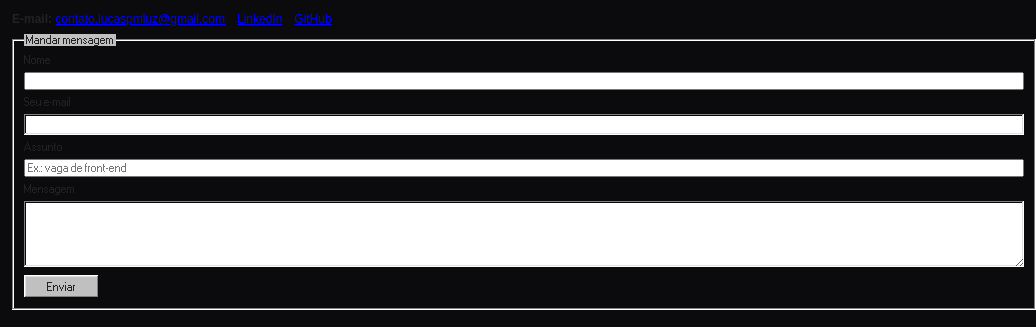
Test: Contact › with a Web3Forms key › shows the service error with the e-mail fallback
Step 1. Type "Ana" into the field labelled "Nome" → (524, 81), box [24,72,1024,90]
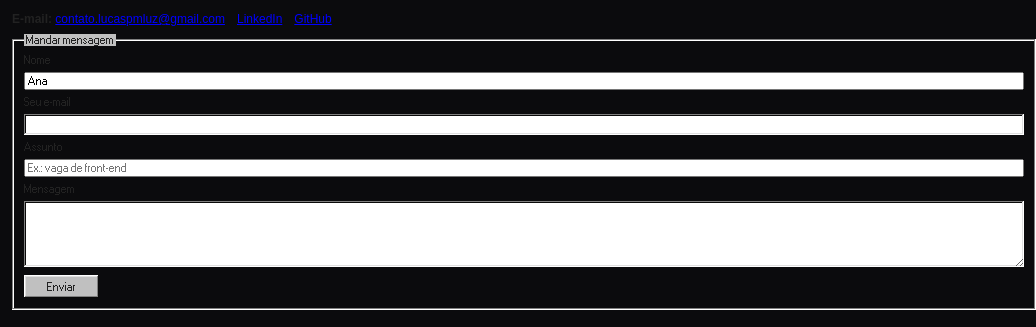
Step 2. Type "ana@exemplo.com" into the field labelled "Seu e-mail" → (524, 124), box [24,114,1024,135]
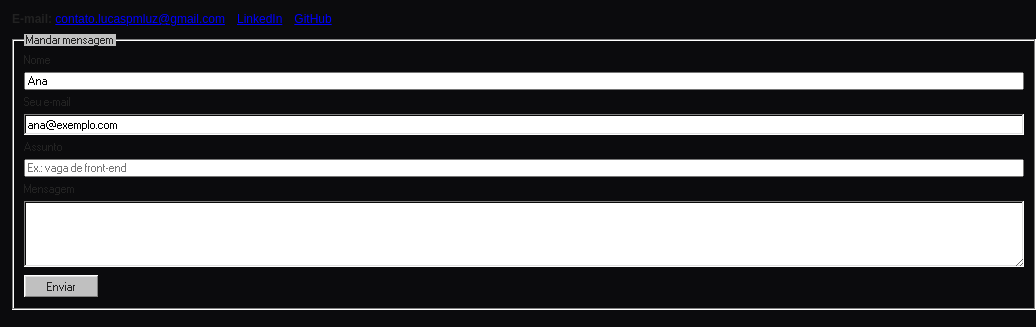
Step 3. Type "Vaga" into the field labelled "Assunto" → (524, 168), box [24,159,1024,177]
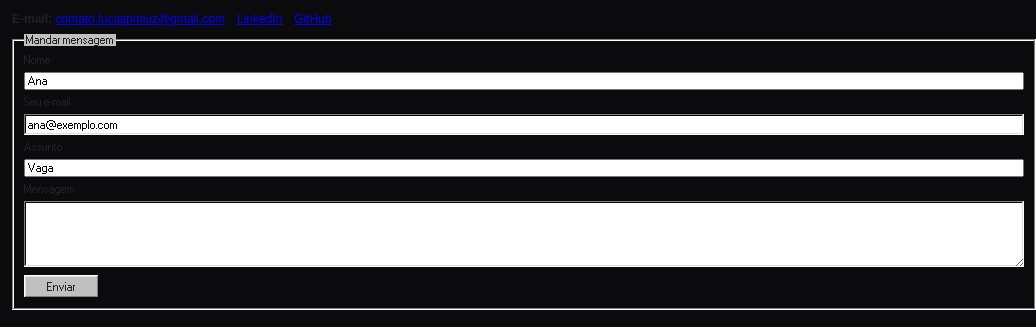
Step 4. Type "Olá, vi seu portfólio!" into the text box labelled "Mensagem" → (524, 234), box [24,201,1024,267]
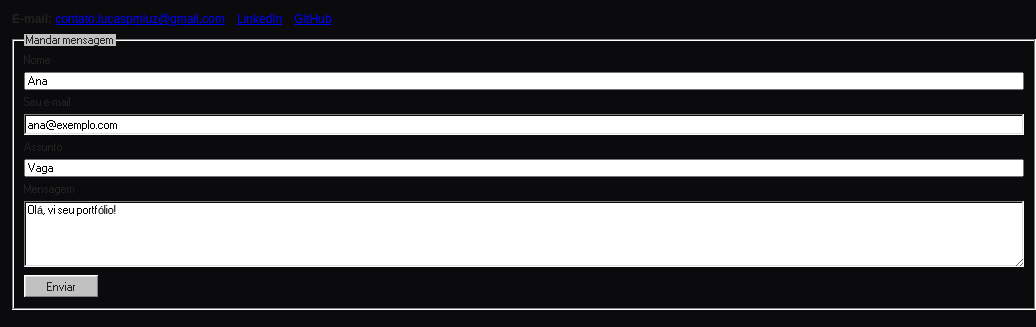
Step 5. Click the button "Enviar" → (62, 286), box [24,275,99,298]
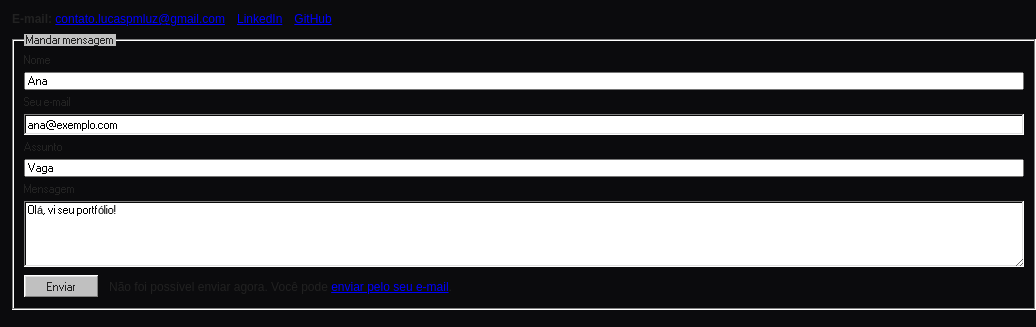
Expected: the link "enviar pelo seu e-mail" is shown, [331,280,449,294]
